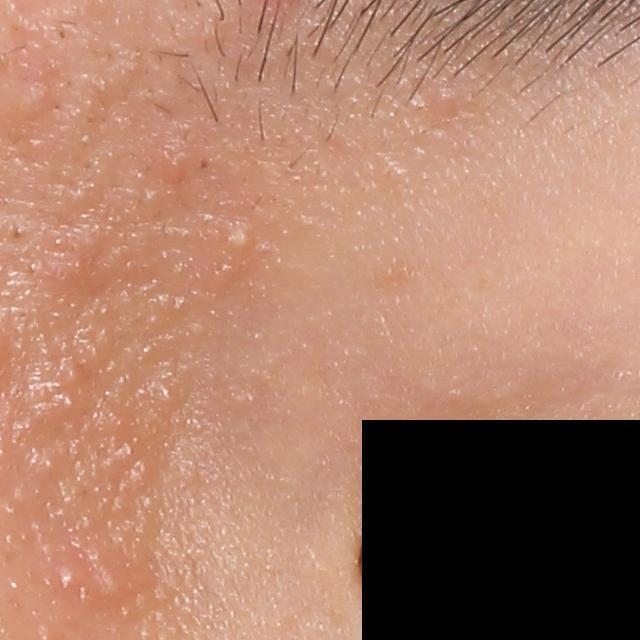comedo: (427, 83, 458, 119)
pustule: (216, 215, 258, 264), (57, 558, 85, 597)
